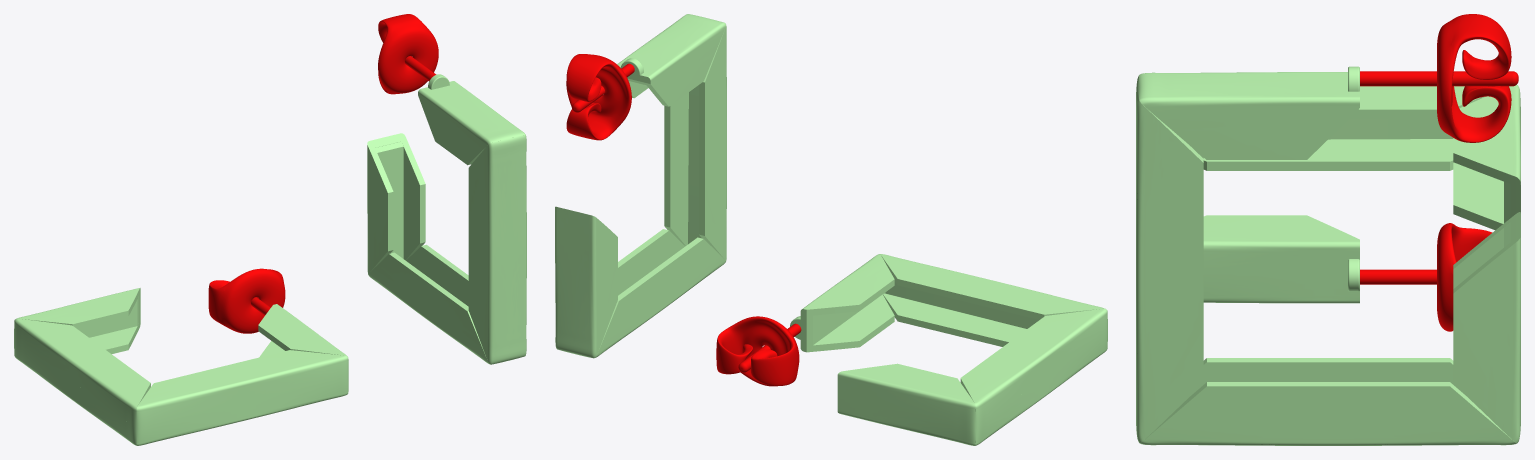
3 views of the same model, side by side, from view 1: azimuth 30°, elevation 25°; view 2: azimuth 150°, elevation 25°; view 3: azimuth 270°, elevation 25° (orthographic). The views are drawn at different scales.
Visible parts, largest first — view 1: ZB-277 Danielle K.3dm; view 2: ZB-277 Danielle K.3dm; view 3: ZB-277 Danielle K.3dm.
Part boxes in pixels (<box>): ZB-277 Danielle K.3dm: <box>14,14,526,445</box>; ZB-277 Danielle K.3dm: <box>555,14,1107,445</box>; ZB-277 Danielle K.3dm: <box>1136,14,1520,445</box>.
Size of the model in its own units: 3.07 by 1.97 by 1.64.
